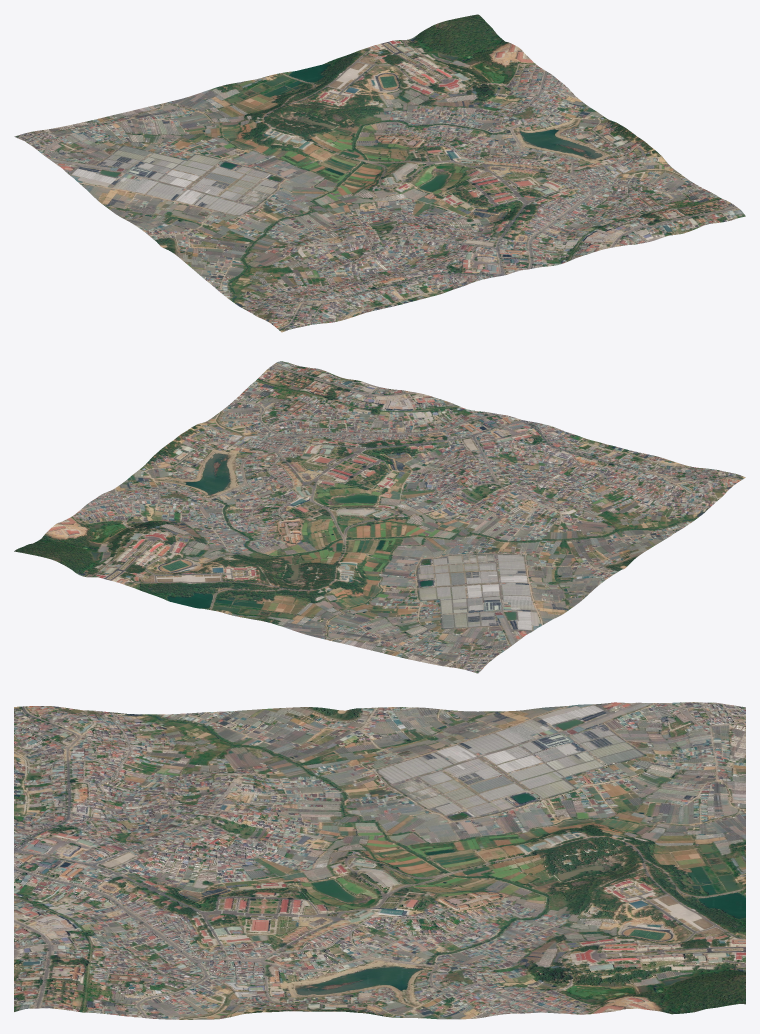
Rendered from terrain_real_T_E01_N01.glb.
3 renders of one model, top to bottom at view 1: azimuth 30°, elevation 25°; view 2: azimuth 150°, elevation 25°; view 3: azimuth 270°, elevation 25°, orthographic. The views are drawn at different scales.
Visible parts, largest first — view 1: TerrainReal_T_E01_N01; view 2: TerrainReal_T_E01_N01; view 3: TerrainReal_T_E01_N01.
Boxes of the visible parts, x1,y1,x2,y2 form: TerrainReal_T_E01_N01: (14, 14, 745, 332); TerrainReal_T_E01_N01: (14, 361, 745, 673); TerrainReal_T_E01_N01: (14, 702, 745, 1019).
Bounding box in the file's own units: 2000 × 64.74 × 2000.
1 material, 1 textured.
